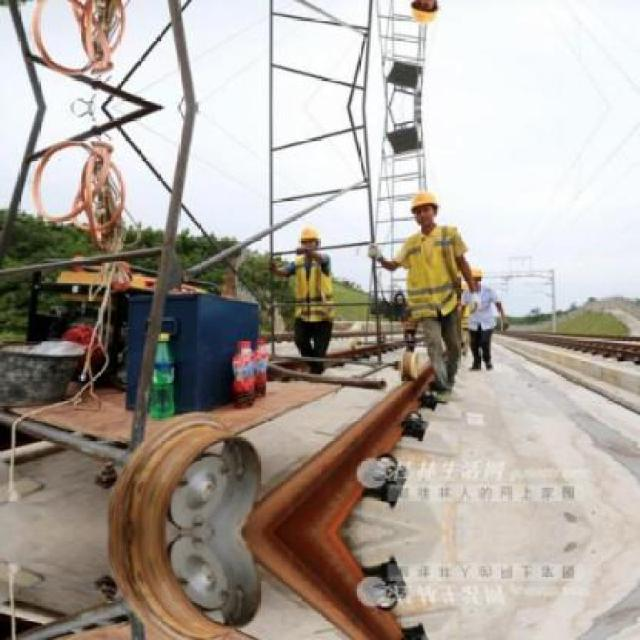helmet: (404, 184, 442, 228), (403, 0, 443, 29), (294, 225, 320, 249)
